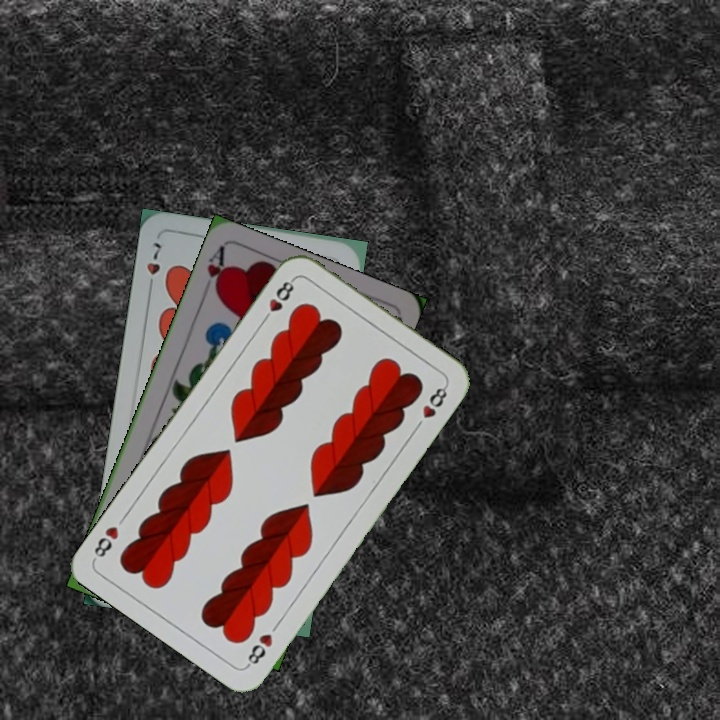H7: (142, 238, 165, 294)
H8: (258, 274, 298, 326), (242, 629, 276, 670)
HA: (203, 243, 230, 299)
